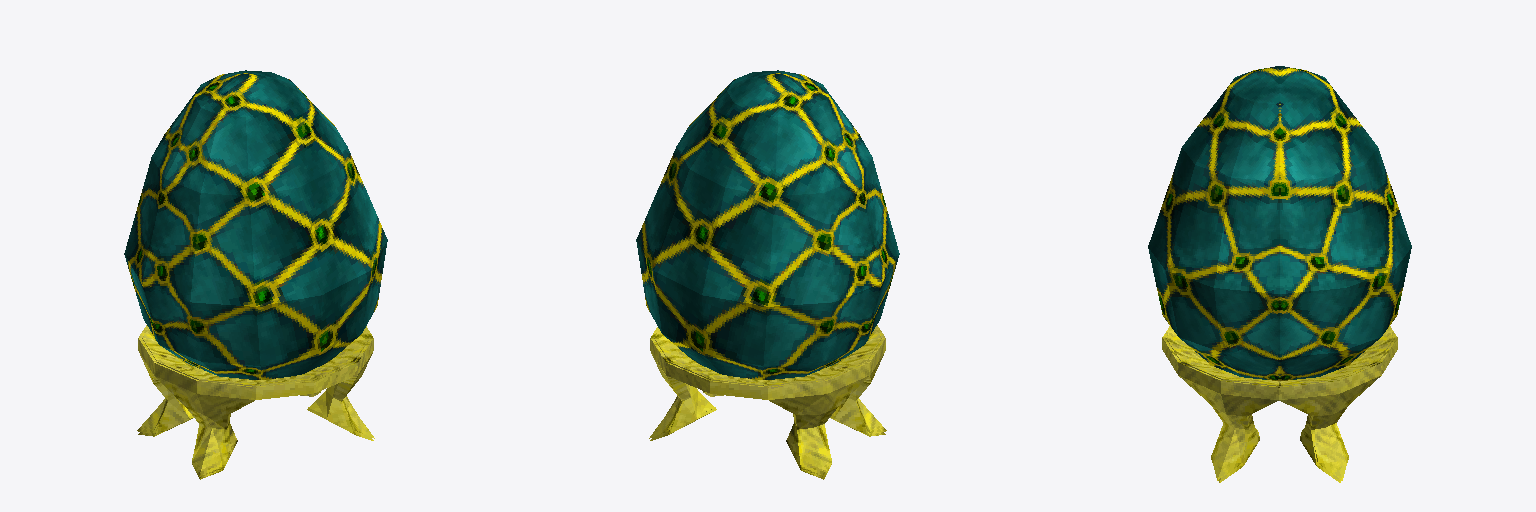
The picture shows the model from 3 angles: view 1: azimuth 30°, elevation 25°; view 2: azimuth 150°, elevation 25°; view 3: azimuth 270°, elevation 25°; orthographic projection.
Parts seen in each view (by area): view 1: AquamarineFabergaEggOfBeauty2, AquamarineFabergaEggOfBeauty1; view 2: AquamarineFabergaEggOfBeauty2, AquamarineFabergaEggOfBeauty1; view 3: AquamarineFabergaEggOfBeauty2, AquamarineFabergaEggOfBeauty1.
Part boxes in pixels (bbox=[...]): AquamarineFabergaEggOfBeauty2: bbox=[124, 70, 387, 479]; AquamarineFabergaEggOfBeauty1: bbox=[137, 328, 374, 476]; AquamarineFabergaEggOfBeauty2: bbox=[636, 70, 899, 479]; AquamarineFabergaEggOfBeauty1: bbox=[649, 328, 886, 476]; AquamarineFabergaEggOfBeauty2: bbox=[1148, 66, 1411, 482]; AquamarineFabergaEggOfBeauty1: bbox=[1166, 329, 1393, 480].
Size of the model in its own units: 1.34 by 2.08 by 1.35.
Materials: 1 (1 with a texture image).